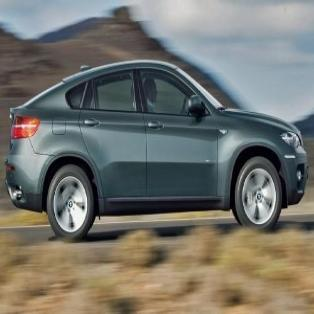Auto: (4, 55, 309, 246)
